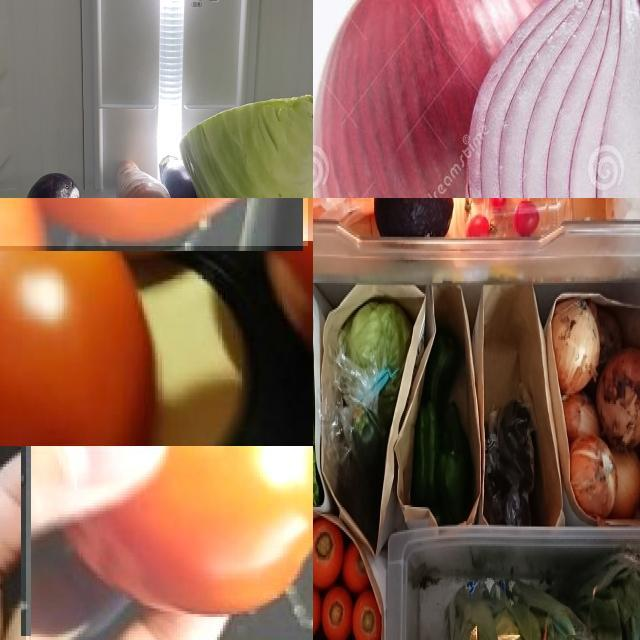cabbage: (181, 91, 314, 199), (340, 294, 419, 376)
carrot: (116, 157, 173, 199), (314, 520, 345, 588), (323, 589, 354, 640), (352, 595, 384, 640), (346, 542, 371, 590)
eggplant: (22, 169, 78, 199)
onion: (314, 1, 575, 199), (466, 1, 640, 199), (569, 437, 619, 523), (553, 301, 599, 393), (600, 349, 640, 452), (562, 393, 602, 441), (613, 453, 640, 517)
tomato: (26, 447, 314, 640), (1, 199, 149, 447), (1, 199, 309, 247)
